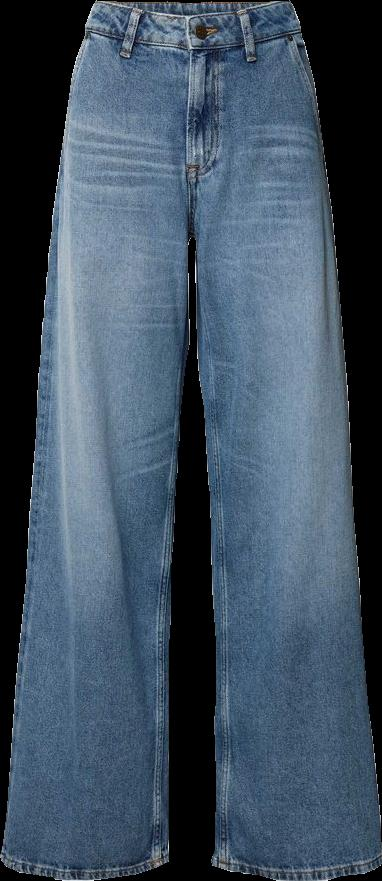Hemline: (0, 853, 171, 880), (209, 856, 381, 880)
Pantleg: (188, 1, 381, 879), (1, 1, 193, 878)
Waistline: (81, 28, 302, 57), (90, 0, 292, 21)
